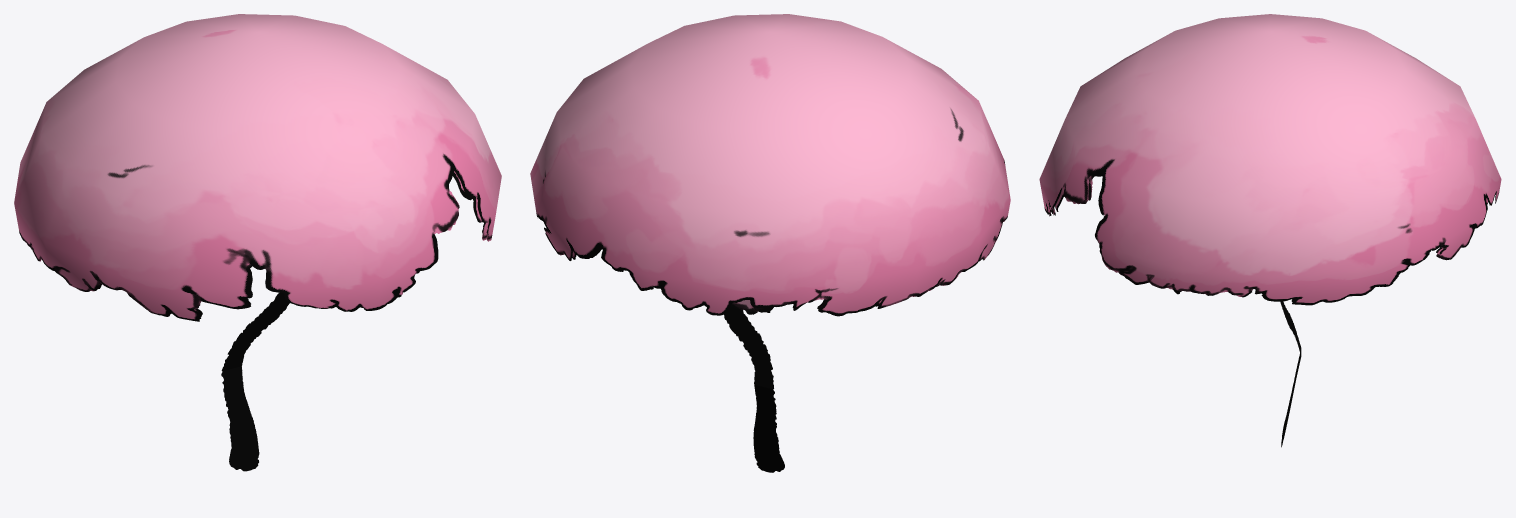
Rendered from Pink_Tree.fbx.
3 views of the same model, side by side, from view 1: azimuth 30°, elevation 25°; view 2: azimuth 150°, elevation 25°; view 3: azimuth 270°, elevation 25° (orthographic). The views are drawn at different scales.
Visible parts, largest first — view 1: Leaves, Trunk; view 2: Leaves, Trunk; view 3: Leaves, Trunk.
Boxes of the visible parts, left/top/right/bottom form: Leaves: left=14, top=14, right=501, bottom=321; Trunk: left=221, top=292, right=289, bottom=471; Leaves: left=530, top=14, right=1010, bottom=316; Trunk: left=724, top=306, right=784, bottom=472; Leaves: left=1039, top=14, right=1501, bottom=305; Trunk: left=1280, top=301, right=1301, bottom=447.
Bounding box in the file's own units: 8.48 × 8.52 × 8.48.
